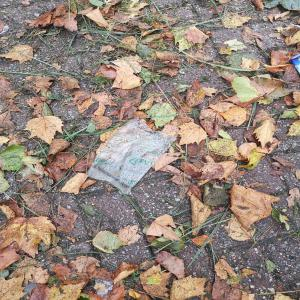Trash: (83, 116, 183, 197), (289, 51, 300, 78)
